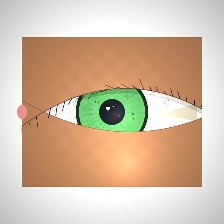pterygium_lesion: (153, 93, 202, 131)
